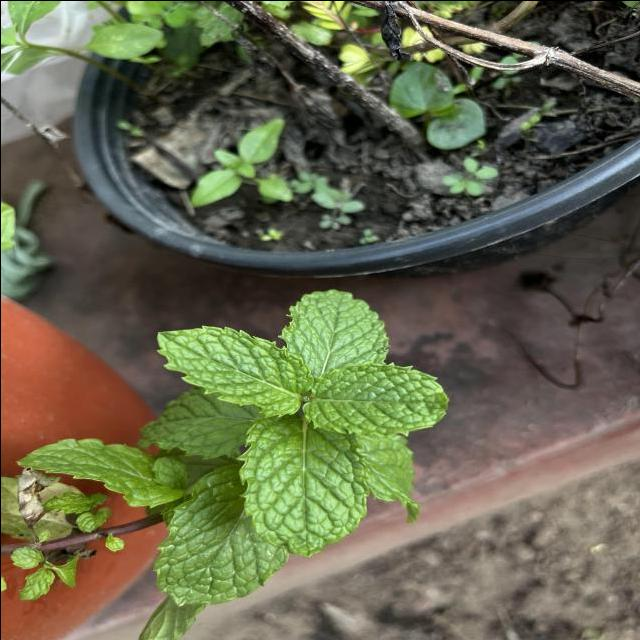Mentha spicata: (234, 413, 368, 557), (154, 323, 314, 418), (300, 359, 449, 441), (275, 286, 391, 368)
